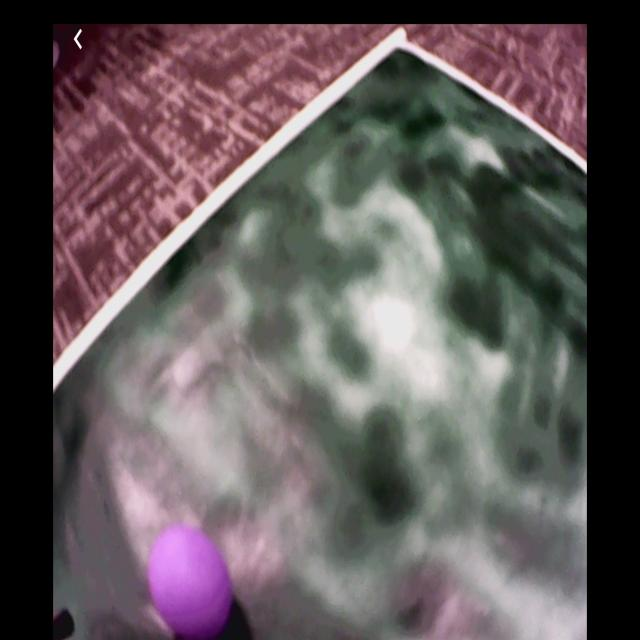ball: (150, 528, 233, 640)
